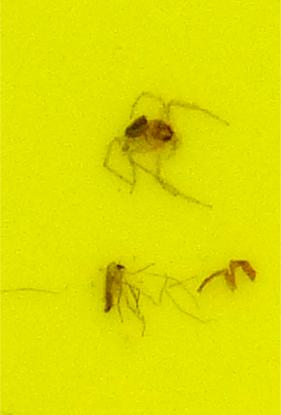Araneae: (112, 100, 181, 170)
Nematocera: (100, 260, 142, 315)
